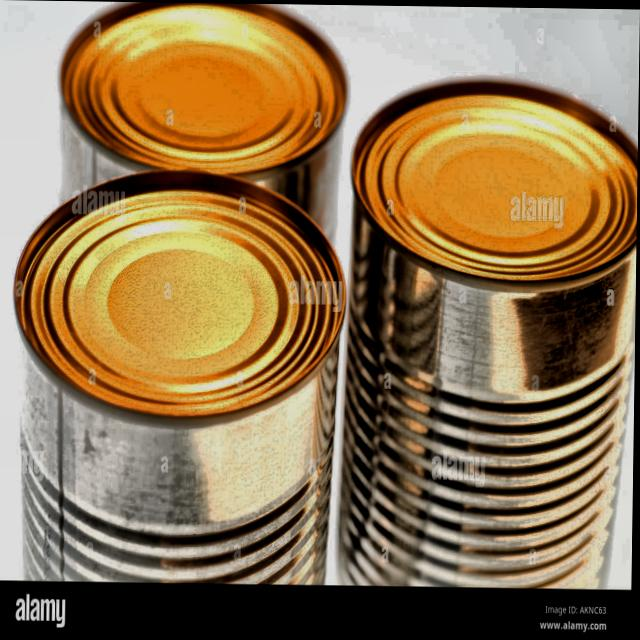can: (336, 71, 639, 589), (8, 159, 349, 588), (56, 1, 352, 281)
